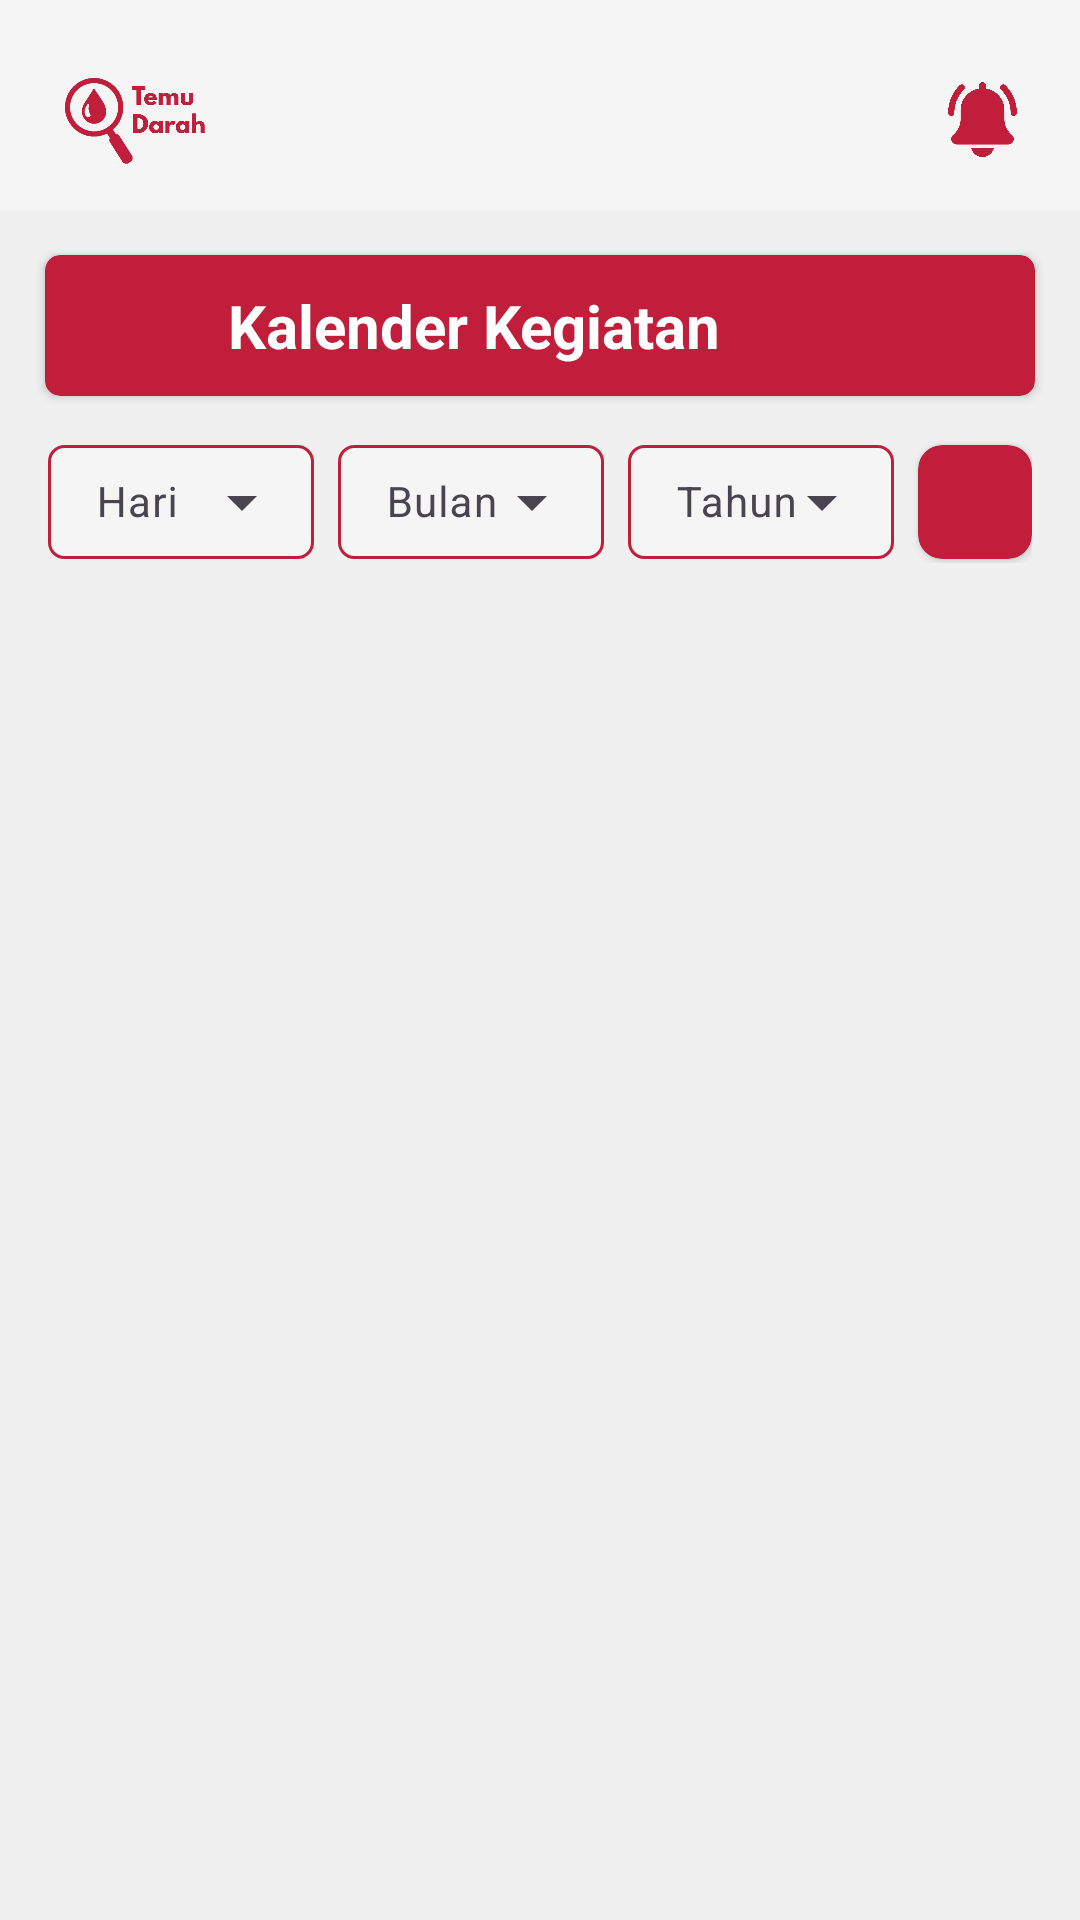

Named icons in this screenshot (1080px×1920px) and their centers, point (x, y):
notifikasi on: point (982, 119)
